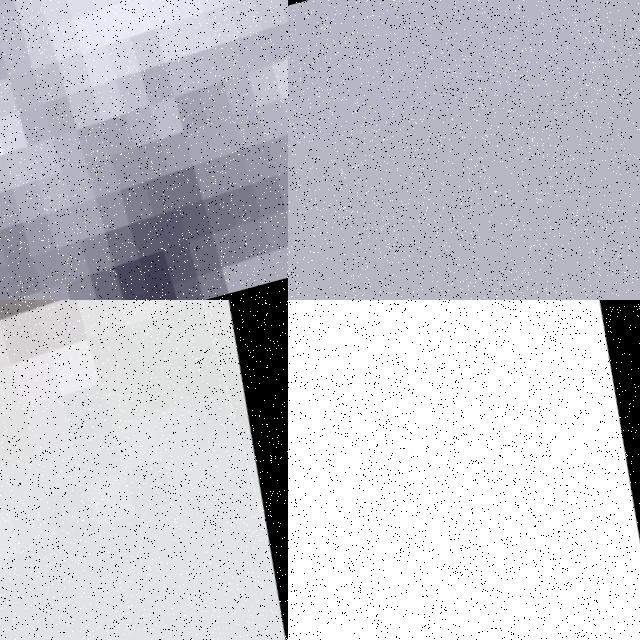drone: (288, 300, 640, 640), (0, 300, 288, 640), (0, 0, 288, 300)
